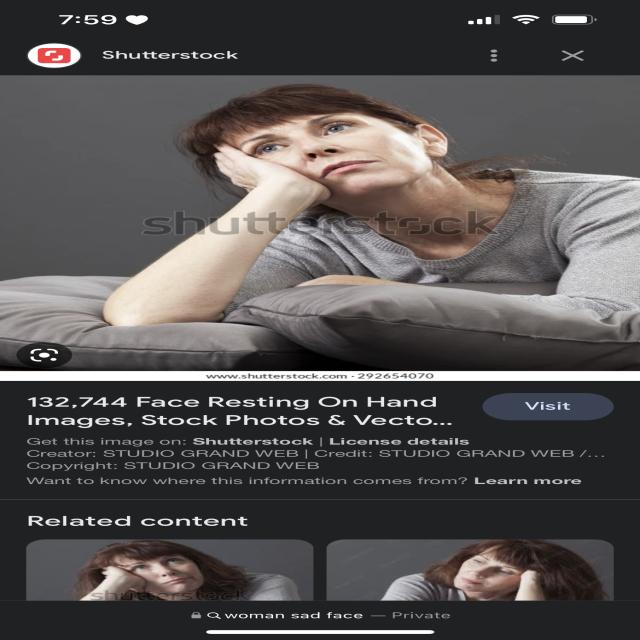natural: (208, 110, 485, 200)
